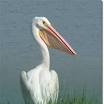pelican: (18, 17, 77, 102)
